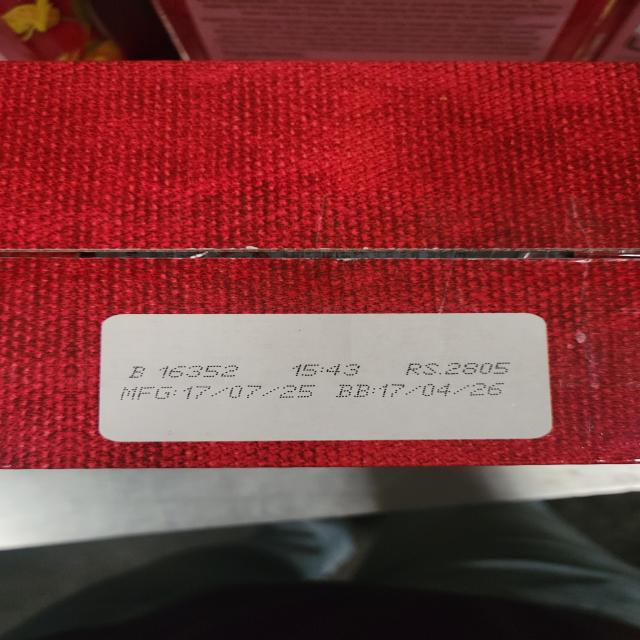BB: (337, 383, 510, 398)
Batch: (128, 366, 242, 378)
MFG: (123, 385, 309, 400)
RS: (405, 362, 517, 376)
TimeStamp: (290, 364, 363, 376)
